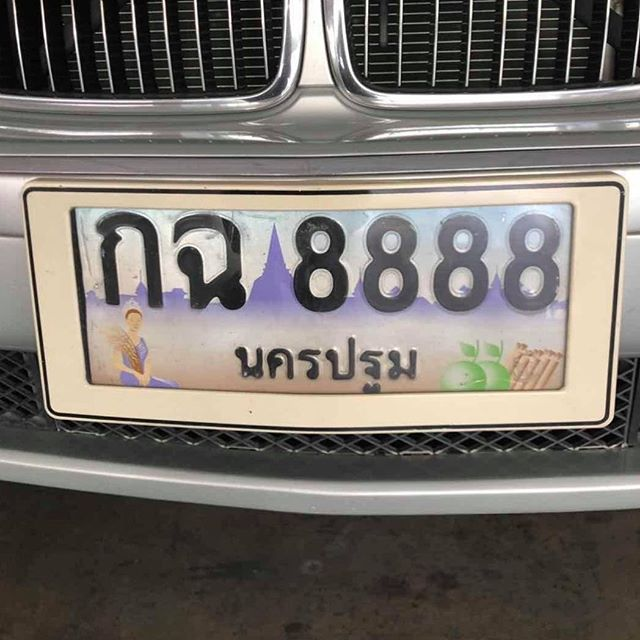Non-Bangkok: (230, 327, 422, 394)
